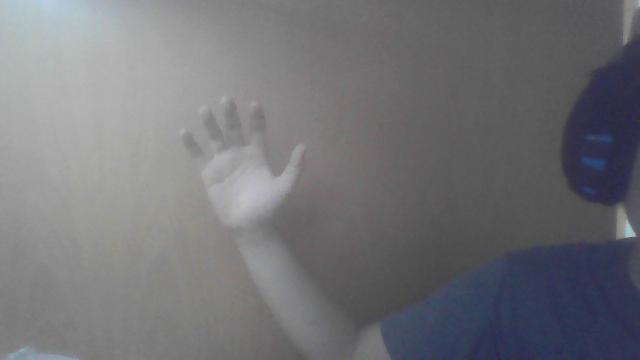Stop: (180, 102, 302, 234)
